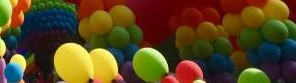Balloon: (54, 42, 95, 83), (133, 47, 167, 82), (89, 48, 118, 82), (262, 19, 288, 43), (175, 60, 202, 83), (89, 10, 112, 35), (111, 5, 135, 27), (241, 6, 264, 28), (108, 26, 129, 49), (258, 43, 282, 62), (197, 22, 217, 43), (240, 29, 261, 49), (207, 53, 227, 73), (223, 14, 241, 36), (176, 25, 194, 46), (4, 63, 23, 82), (280, 61, 296, 82), (181, 8, 200, 25), (193, 41, 212, 58)
